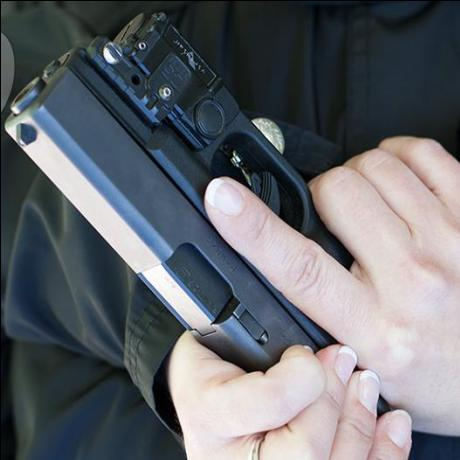1: (164, 132, 460, 459)
weapon: (7, 16, 361, 386)
